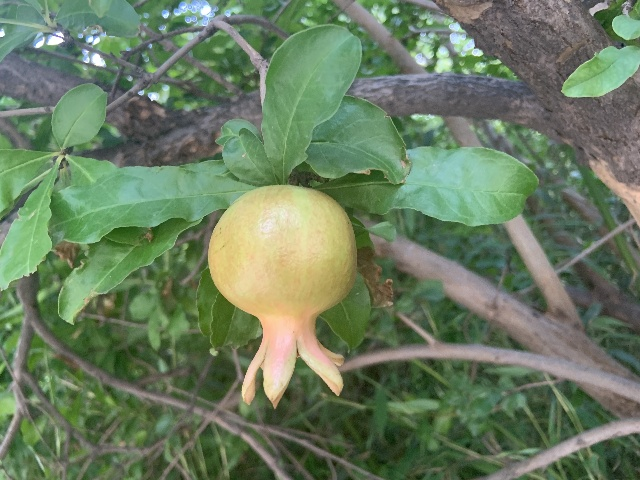mid-growth: (207, 185, 358, 410)
